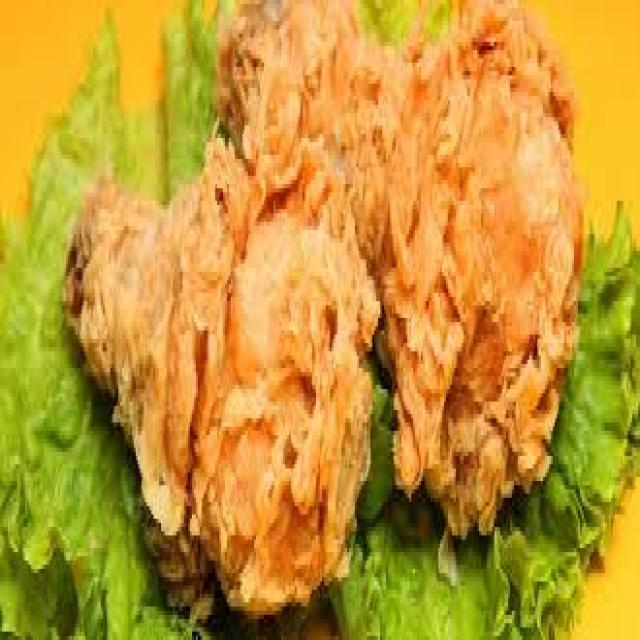Frango: (223, 0, 578, 531), (66, 175, 376, 610)
